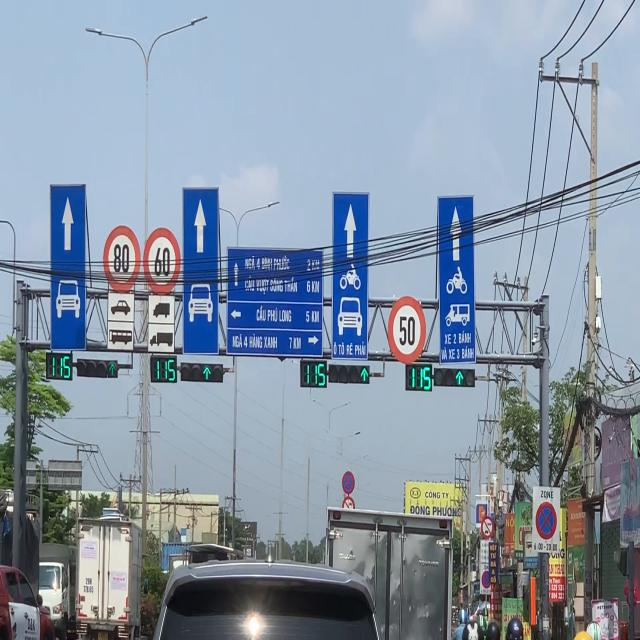Cam con lai: (480, 516, 494, 541)
Cam dung va do: (536, 502, 557, 540), (342, 471, 355, 494), (482, 571, 492, 589)
Toc do toi da: (388, 296, 426, 364), (103, 226, 141, 294), (143, 228, 181, 295)
